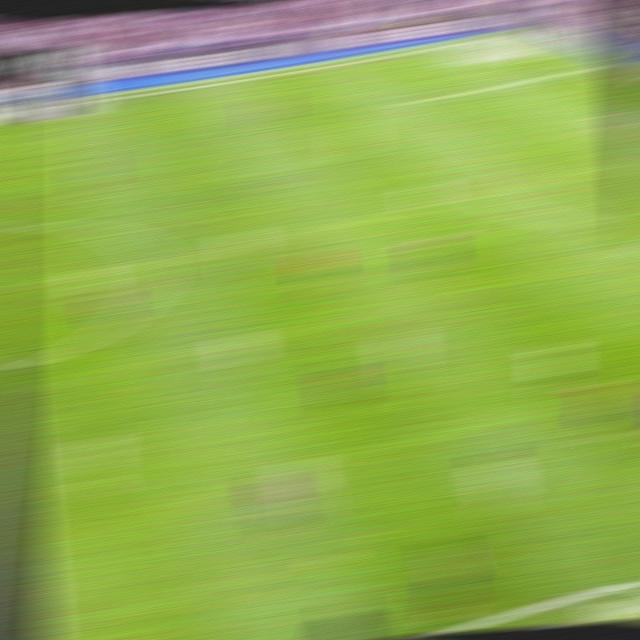bigarea_top_inner: (405, 92, 435, 106)
bigarea_top_outter: (576, 59, 606, 70)
bottom_arc_area_intersection: (576, 213, 609, 231)
halfcircle_bottom: (0, 352, 24, 379)
smallarea_top_inner: (594, 108, 624, 120)
top_arc_area_intersection: (472, 140, 502, 154)
